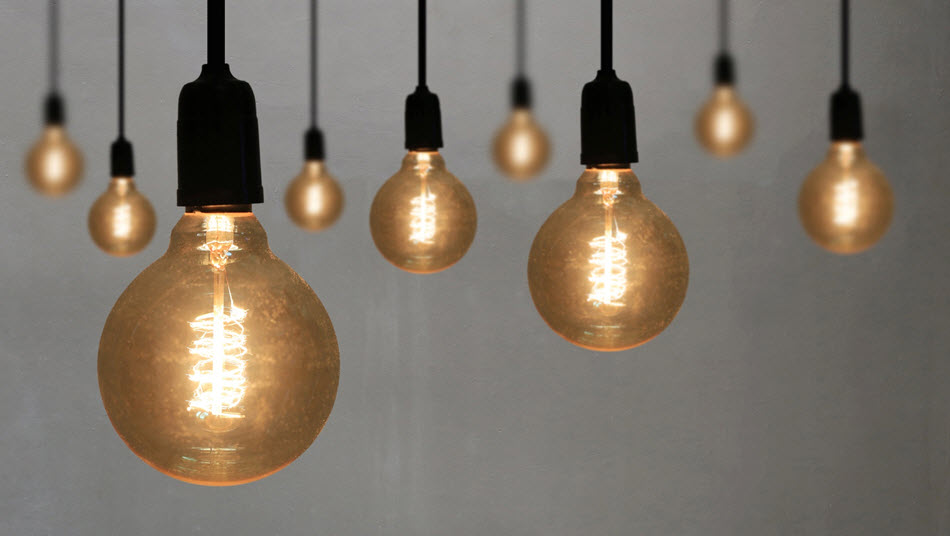Light_bulb: (101, 191, 348, 502), (524, 156, 700, 355), (363, 130, 488, 303), (781, 128, 907, 274)
